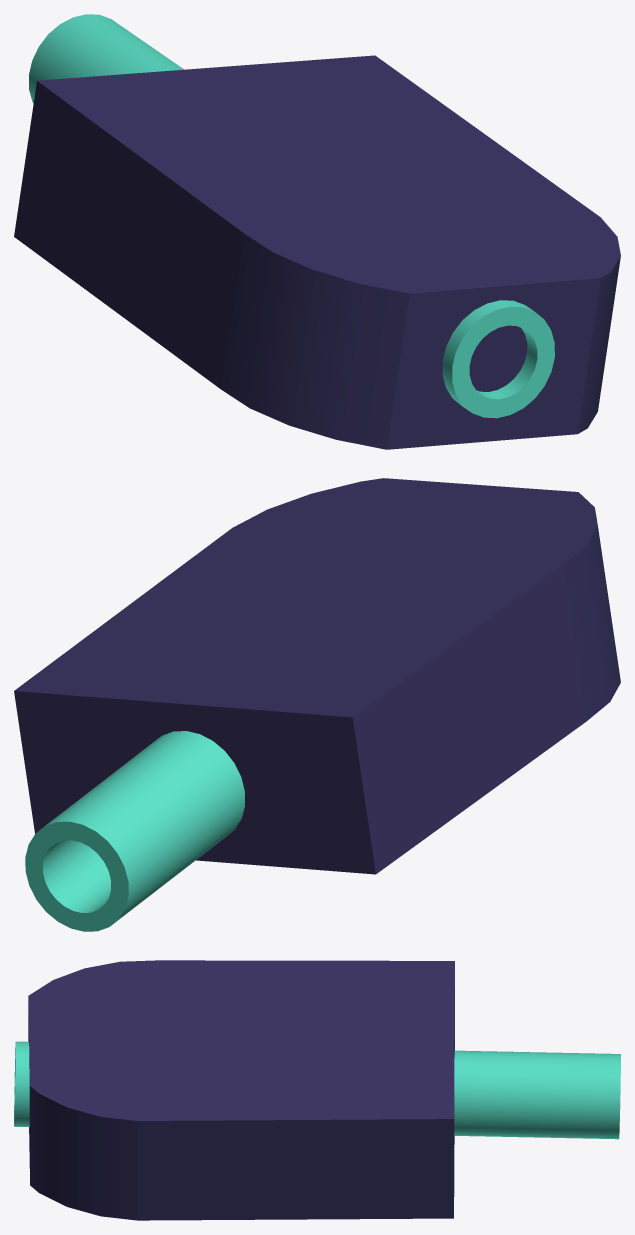
The model's file is Pedal_Der.obj.
3 views of the same model, one above another, from view 1: azimuth 30°, elevation 25°; view 2: azimuth 150°, elevation 25°; view 3: azimuth 270°, elevation 25° (orthographic). The views are drawn at different scales.
Visible parts, largest first — view 1: Group_007, Group_008; view 2: Group_007, Group_008; view 3: Group_007, Group_008.
Boxes of the visible parts, left/top/right/bottom form: Group_007: left=14, top=55, right=620, bottom=449; Group_008: left=29, top=14, right=554, bottom=418; Group_007: left=14, top=478, right=620, bottom=874; Group_008: left=25, top=731, right=244, bottom=931; Group_007: left=28, top=960, right=454, bottom=1220; Group_008: left=14, top=1041, right=620, bottom=1139.
Bounding box in the file's own units: 1.89 × 1.03 × 3.8.
2 materials, 1 textured.
